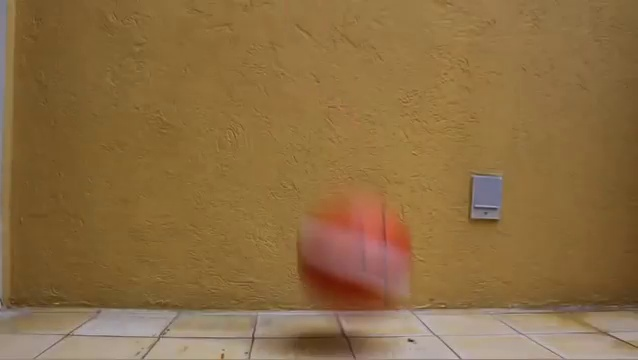ball: (298, 193, 419, 315)
